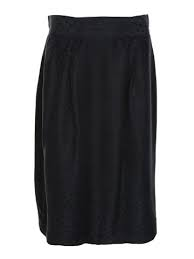S_skirt: (29, 13, 167, 245)
